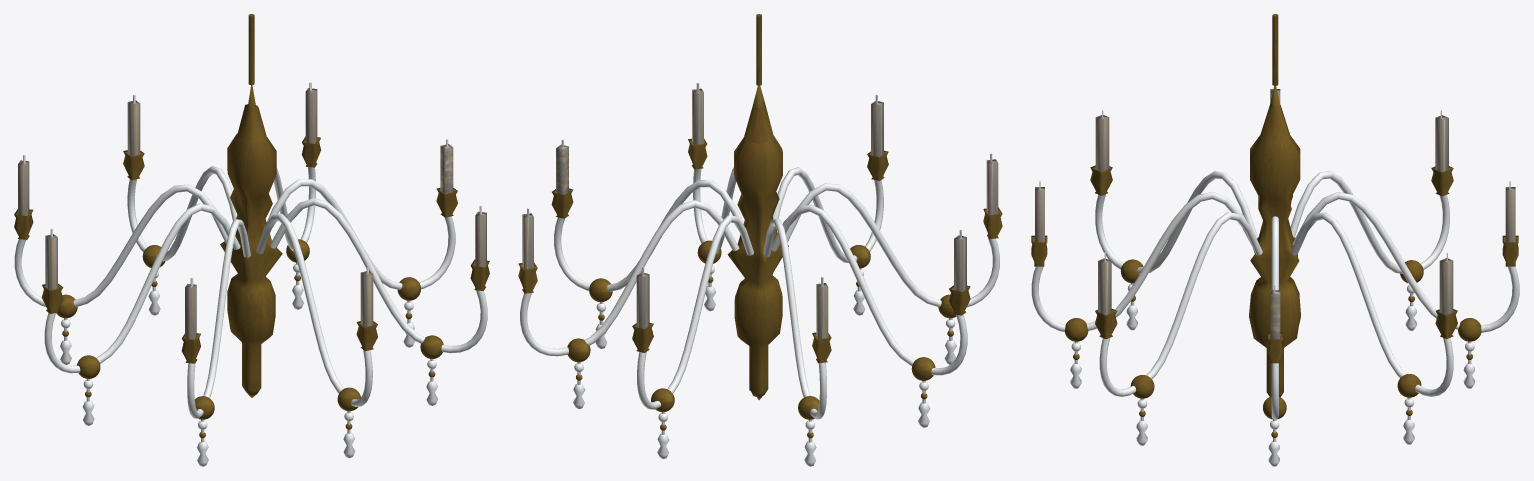
Rendered from zyrandol.fbx.
The picture shows the model from 3 angles, left to right: view 1: azimuth 30°, elevation 25°; view 2: azimuth 150°, elevation 25°; view 3: azimuth 270°, elevation 25°; orthographic projection.
Parts seen in each view (by area): view 1: Icosphere.003, Cube, Cube.014; view 2: Icosphere.003, Cube, Cube.014; view 3: Icosphere.003, Cube, Cube.014.
Boxes of the visible parts, <box> form: Icosphere.003: <box>14,166,487,466</box>; Cube: <box>14,14,489,438</box>; Cube.014: <box>18,82,486,339</box>; Icosphere.003: <box>520,167,999,466</box>; Cube: <box>518,14,1002,438</box>; Cube.014: <box>522,82,998,339</box>; Icosphere.003: <box>1031,171,1519,466</box>; Cube: <box>1031,14,1518,437</box>; Cube.014: <box>1035,89,1515,339</box>.
Size of the model in its own units: 388 by 346 by 396.
